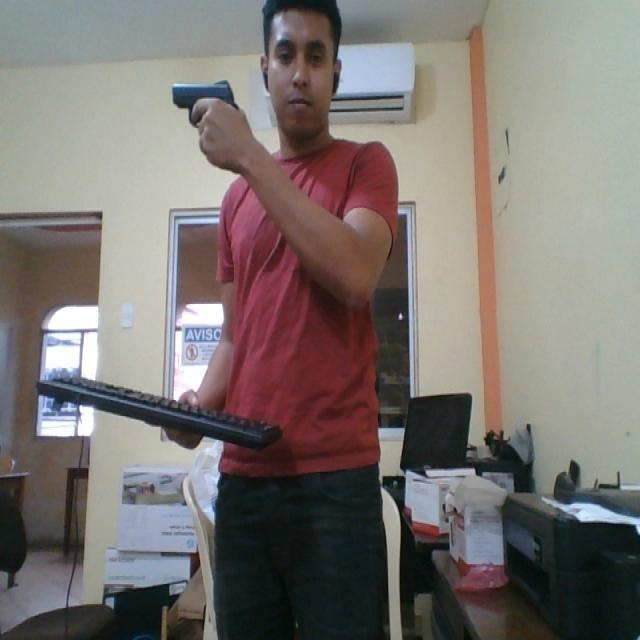weapon: (165, 70, 246, 144)
